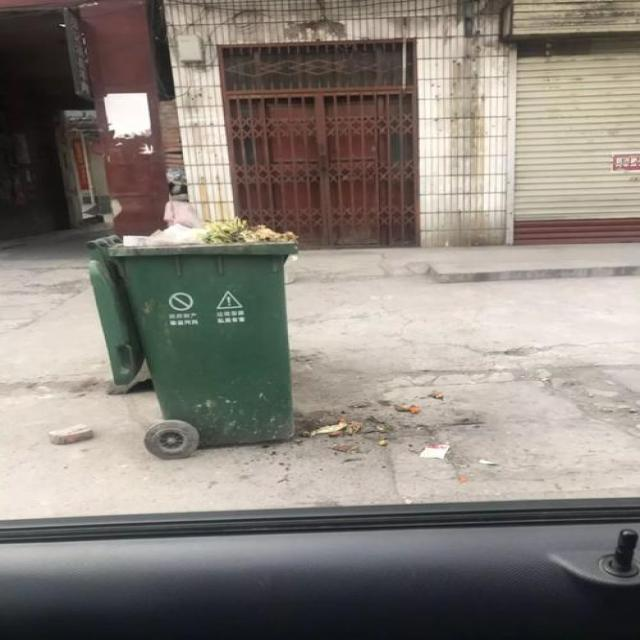garbage: (303, 390, 494, 464)
overflow: (83, 199, 297, 445)
